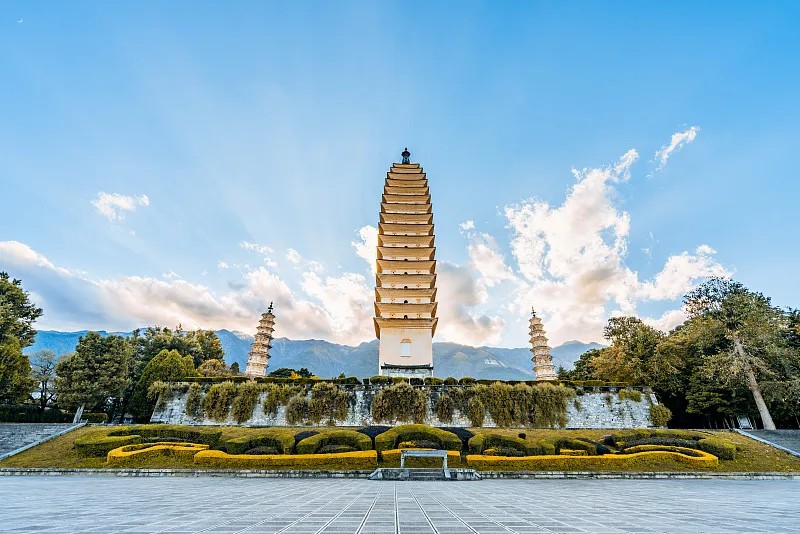ThreePagoda: (373, 146, 439, 375)
